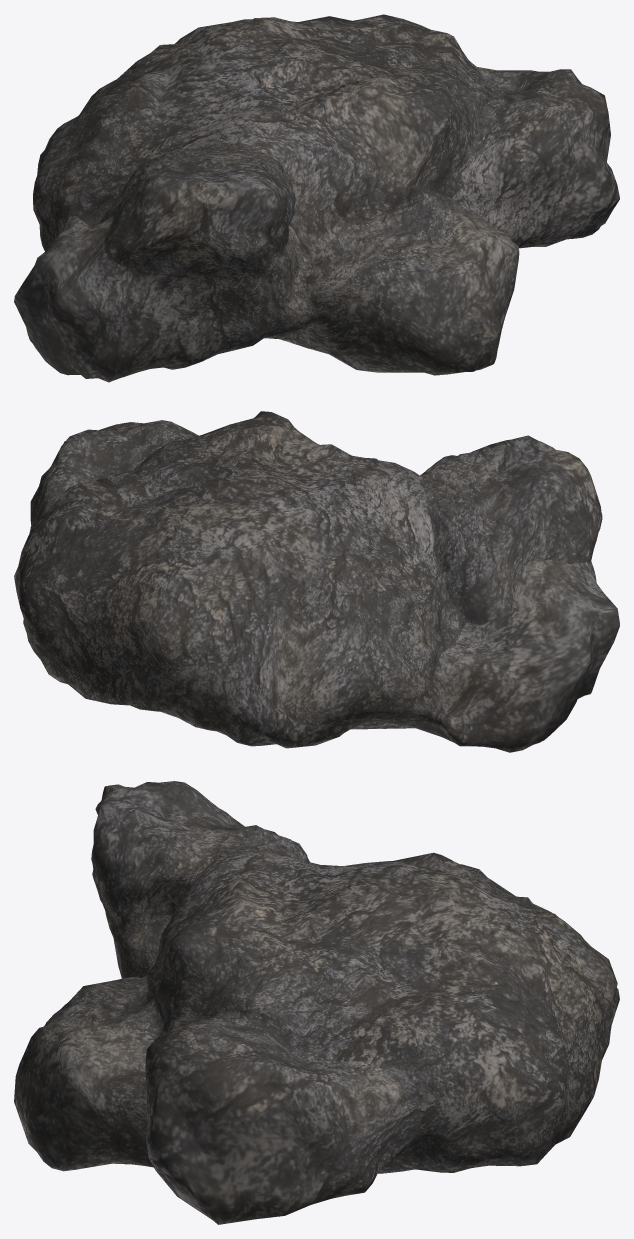
File: Rock02.dae
3 renders of one model, top to bottom at view 1: azimuth 30°, elevation 25°; view 2: azimuth 150°, elevation 25°; view 3: azimuth 270°, elevation 25°, orthographic. The views are drawn at different scales.
Visible parts, largest first — view 1: Rock02; view 2: Rock02; view 3: Rock02.
Boxes of the visible parts, x1,y1,x2,y2 form: Rock02: (14,14,619,382); Rock02: (14,411,619,752); Rock02: (14,781,619,1224).
Bounding box in the file's own units: 7600 × 6381 × 3141.
1 material, 1 textured.
